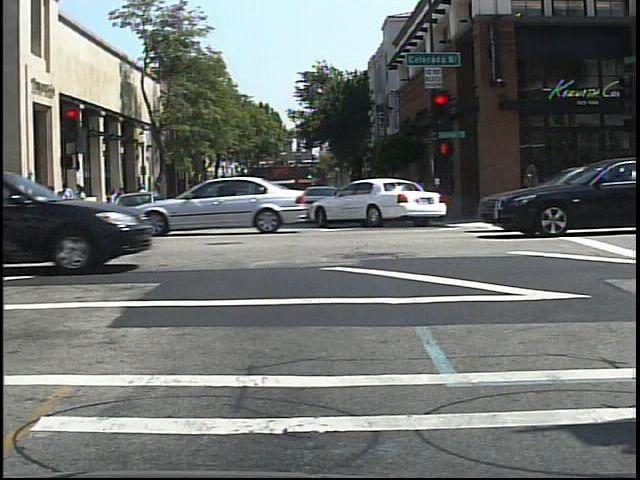person: (133, 181, 153, 220), (134, 181, 148, 214)
